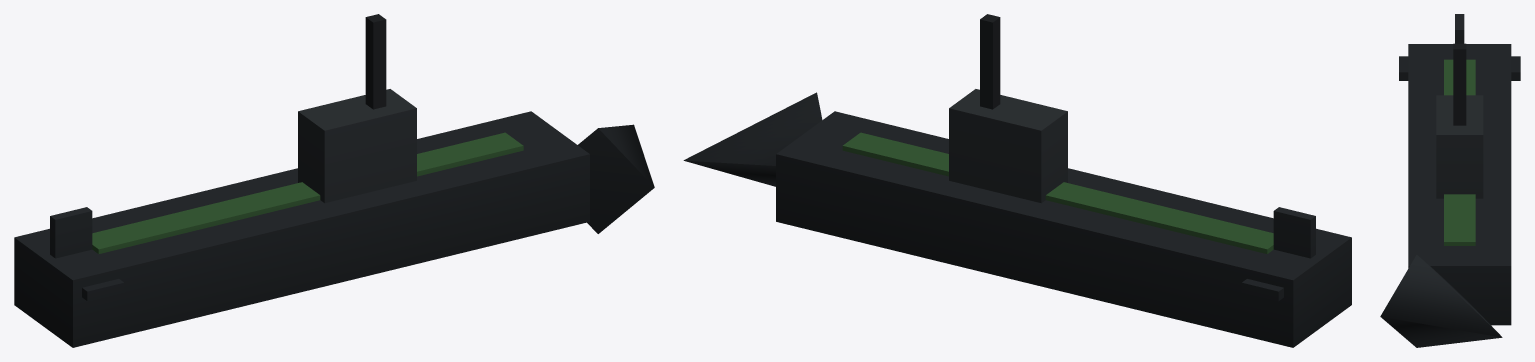
3 renders of one model, left to right at view 1: azimuth 30°, elevation 25°; view 2: azimuth 150°, elevation 25°; view 3: azimuth 270°, elevation 25°, orthographic. The views are drawn at different scales.
Visible parts, largest first — view 1: mesh; view 2: mesh; view 3: mesh.
Part boxes in pixels (x1,y1,x2,y2): mesh: (14, 14, 654, 347); mesh: (683, 14, 1351, 347); mesh: (1380, 14, 1520, 347).
Size of the model in its own units: 66.6 by 25.5 by 14.99.
